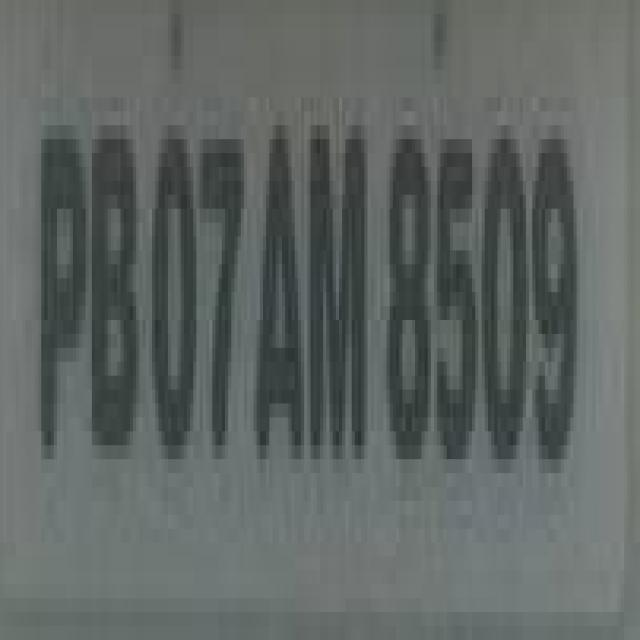license_plate: (3, 28, 605, 626)
